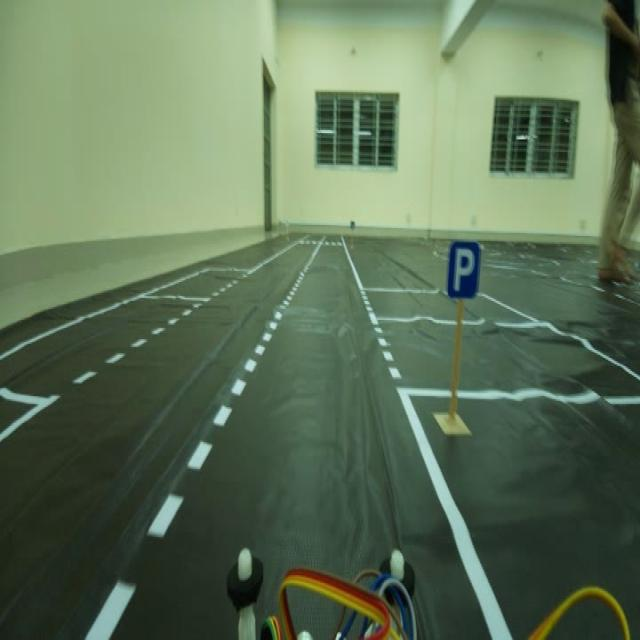parking: (444, 238, 484, 307)
